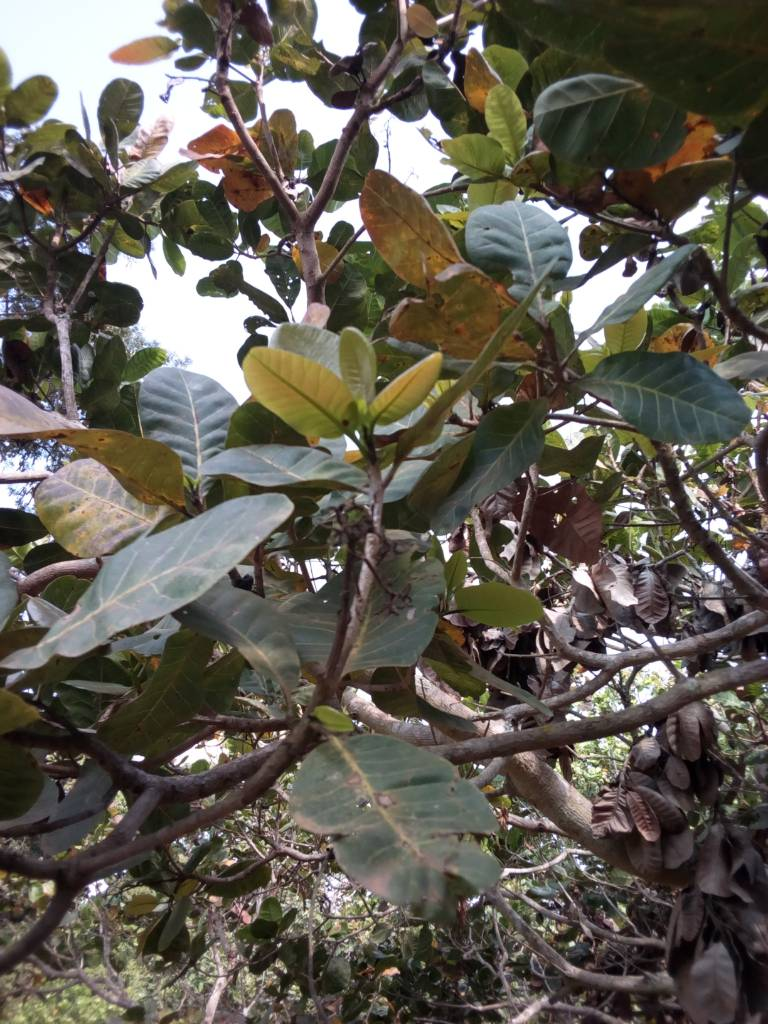Anoplonemis curvipes: (272, 738, 528, 913)
